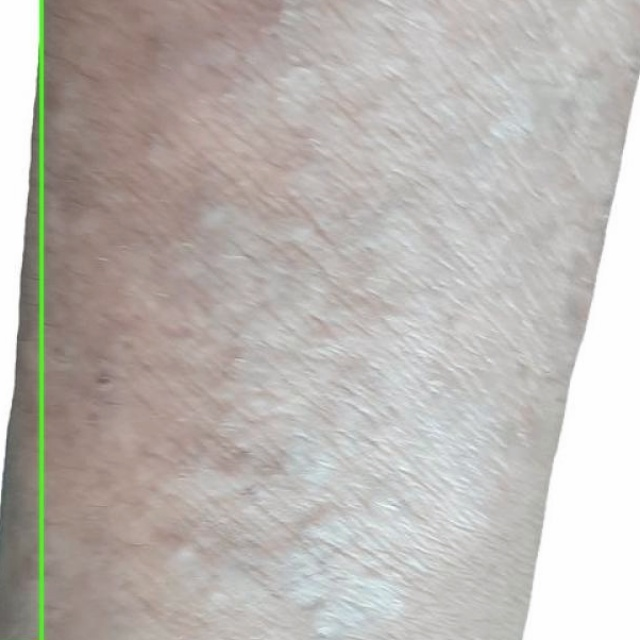Tinea Corporis: (0, 0, 41, 639)
